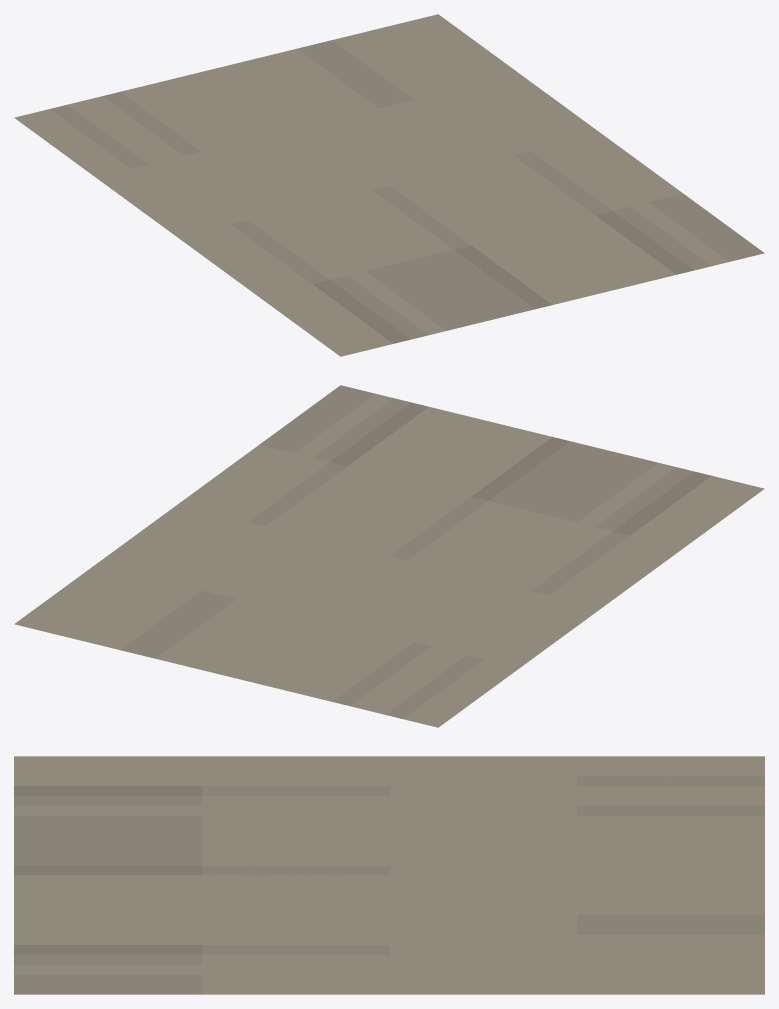
The picture shows the model from 3 angles, top to bottom: view 1: azimuth 30°, elevation 25°; view 2: azimuth 150°, elevation 25°; view 3: azimuth 270°, elevation 25°; orthographic projection. The views are drawn at different scales.
Bounding box in the file's own units: 0.75 × 0 × 1.
1 material, 1 textured.
